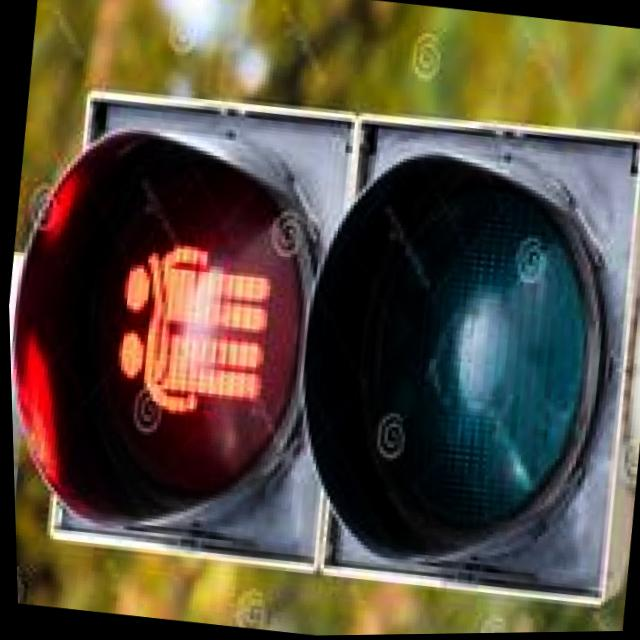red_light: (3, 124, 328, 581)
